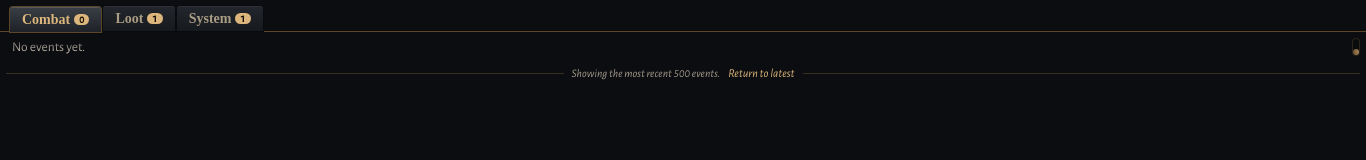
Test case: event tabs › the Loot tab is bound to the published loot event, and lists nothing else (part 4 §3.1, R108)
Click the tab "Loot1" at (139, 19), box left=104, top=6, right=175, bottom=31
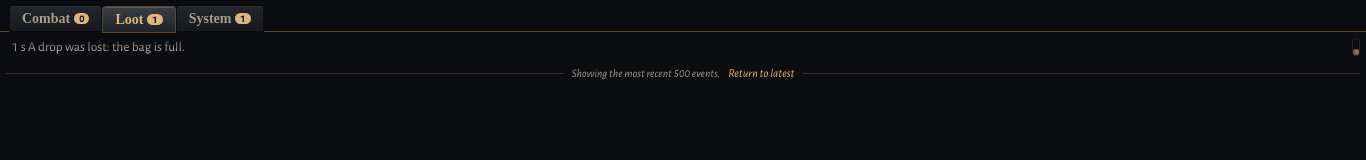
expect the number of list items is 1: met, box left=12, top=40, right=185, bottom=54
expect the list item shows "A drop was lost: the bag is full.": met, box left=28, top=40, right=185, bottom=54
